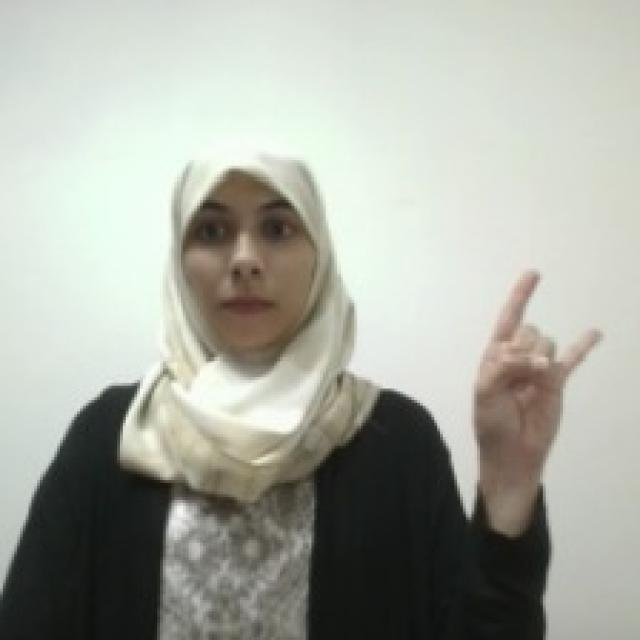No: (470, 262, 606, 458)
